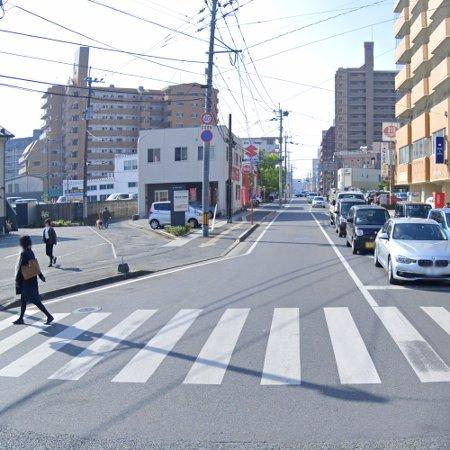crosswalks: (0, 305, 450, 385)
